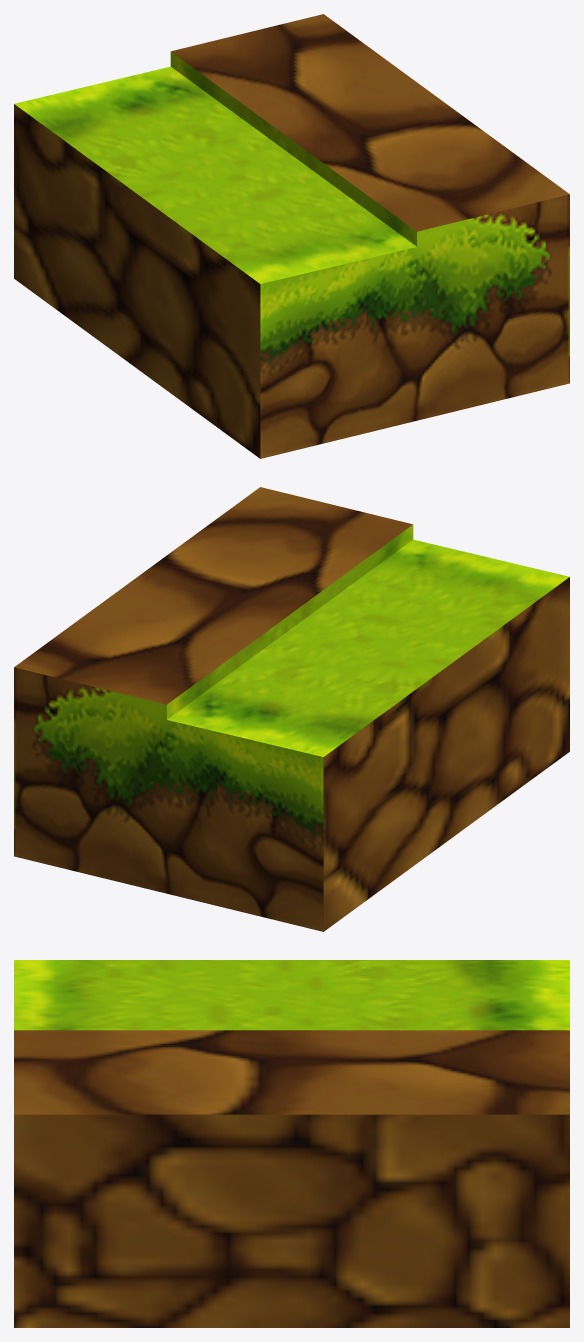
Rendered from Road_4.fbx.
The picture shows the model from 3 angles, top to bottom: view 1: azimuth 30°, elevation 25°; view 2: azimuth 150°, elevation 25°; view 3: azimuth 270°, elevation 25°; orthographic projection. The views are drawn at different scales.
Parts seen in each view (by area): view 1: Road_4; view 2: Road_4; view 3: Road_4.
Part boxes in pixels (bbox=[...]): Road_4: bbox=[14, 14, 569, 458]; Road_4: bbox=[14, 487, 569, 931]; Road_4: bbox=[14, 960, 569, 1327].
Size of the model in its own units: 3.09 by 1.8 by 4.26.
Materials: 1 (1 with a texture image).
